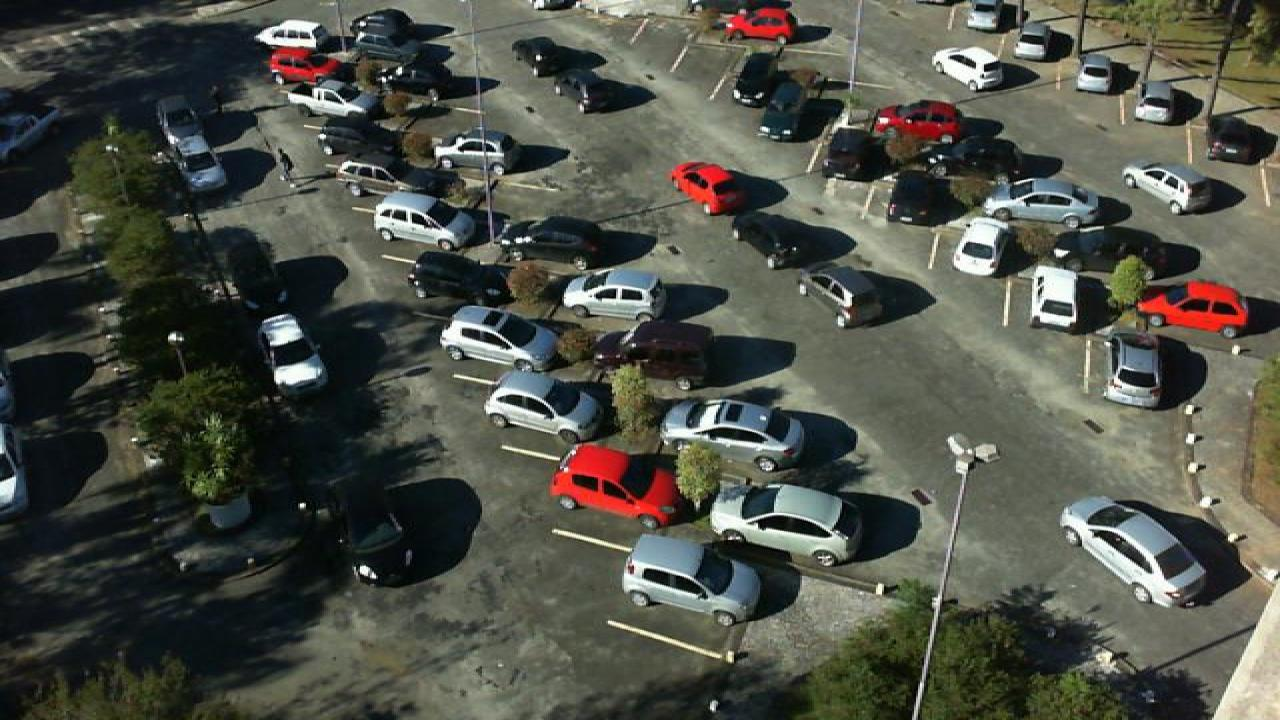Car: (1058, 495, 1208, 607), (620, 534, 764, 626), (708, 483, 860, 568), (548, 442, 686, 530), (660, 397, 810, 474), (326, 472, 414, 588), (482, 371, 610, 444), (590, 320, 716, 391), (440, 306, 568, 374), (158, 94, 228, 192), (1136, 280, 1250, 339), (370, 192, 478, 251), (1052, 226, 1166, 281), (984, 180, 1104, 230), (408, 250, 514, 306), (494, 217, 606, 270), (560, 268, 664, 322), (262, 313, 326, 395), (798, 266, 882, 328), (1120, 162, 1218, 214), (730, 212, 816, 270), (1102, 332, 1166, 409), (330, 158, 428, 204), (344, 8, 422, 65), (922, 135, 1024, 177), (434, 128, 526, 174), (670, 161, 746, 215), (1032, 264, 1092, 332), (874, 99, 966, 143), (284, 81, 378, 121), (952, 216, 1010, 278), (932, 45, 1010, 91), (406, 63, 502, 99), (318, 120, 402, 160), (732, 50, 786, 109), (824, 127, 880, 183), (756, 86, 812, 142), (884, 172, 942, 226), (554, 68, 624, 112), (268, 47, 348, 83), (508, 36, 572, 79), (722, 7, 796, 44), (1208, 118, 1264, 163), (254, 19, 328, 51), (1014, 19, 1062, 61), (1134, 81, 1178, 125), (964, 0, 1018, 33), (1074, 53, 1116, 94)
